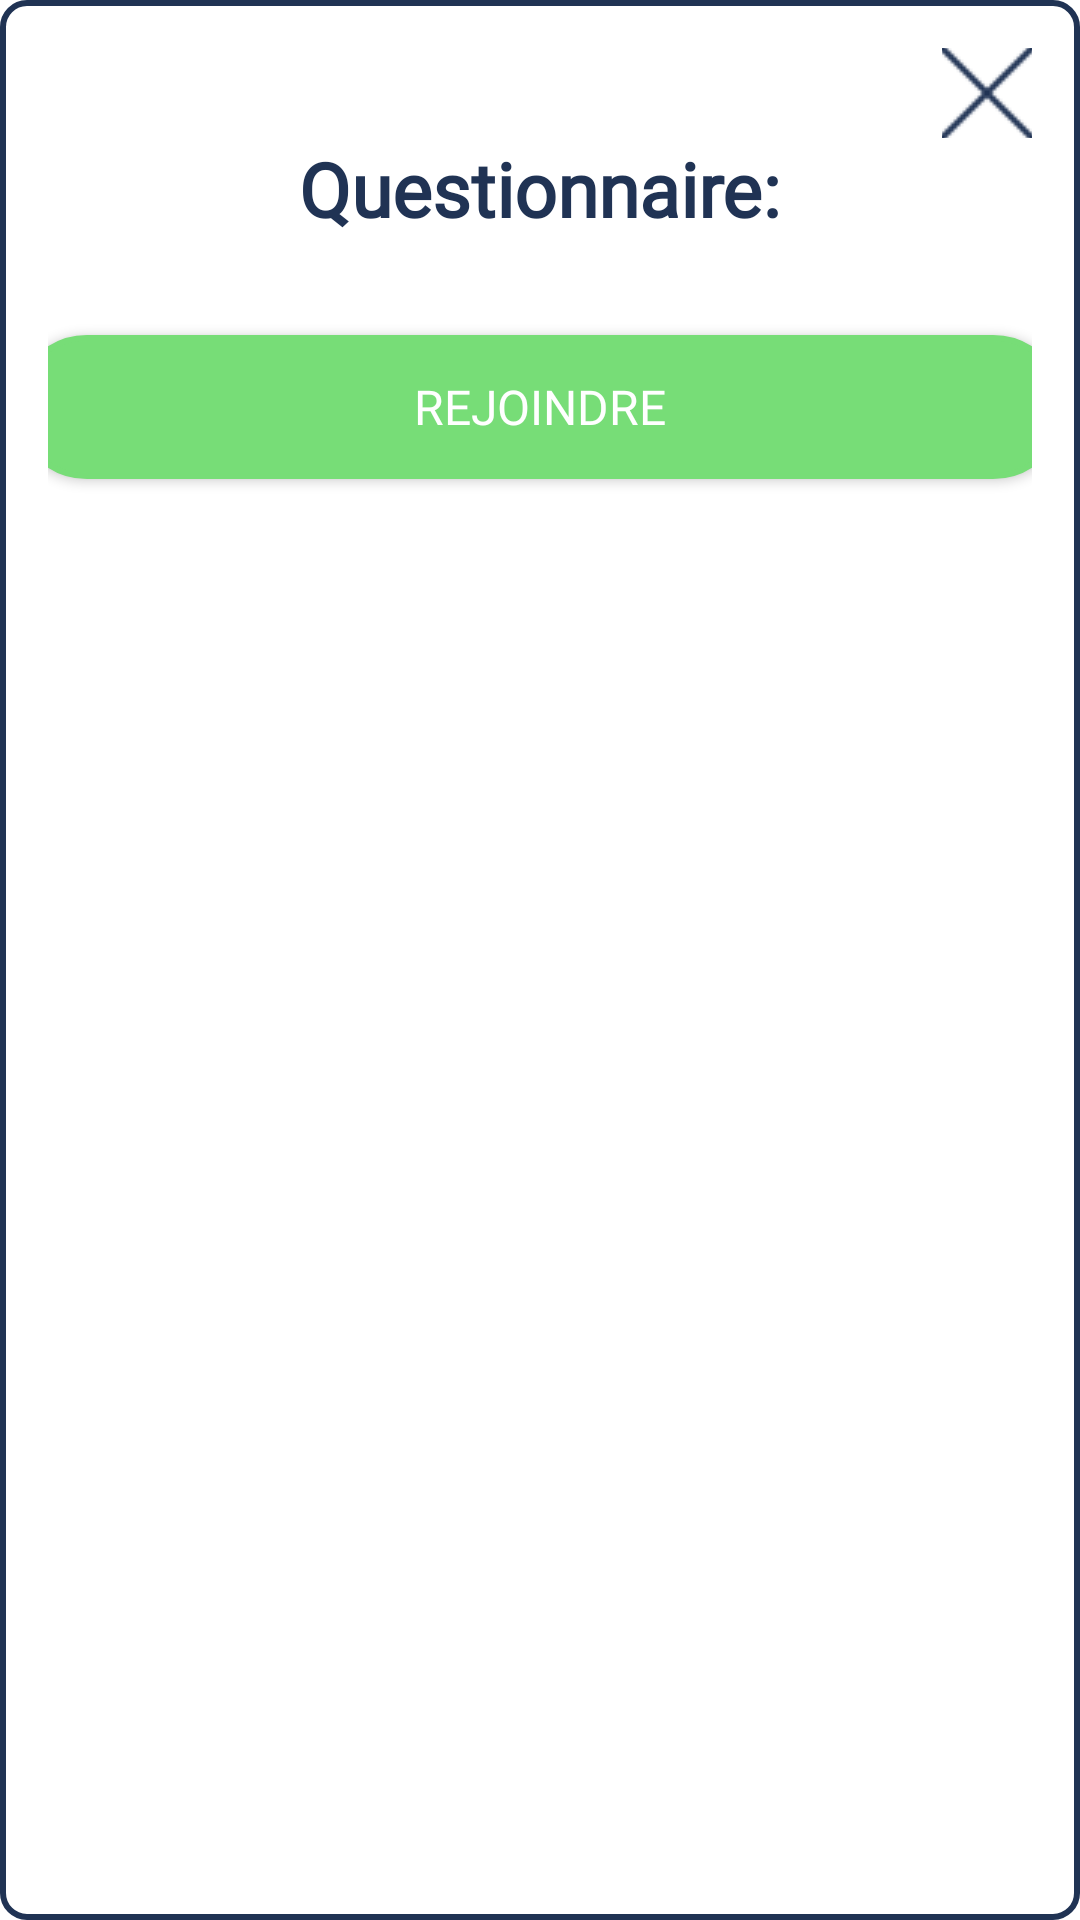

Where to tap for icons on this 1080w x 1920h app screen, as (x,y):
Fermer le questionnaire: (987,93)
